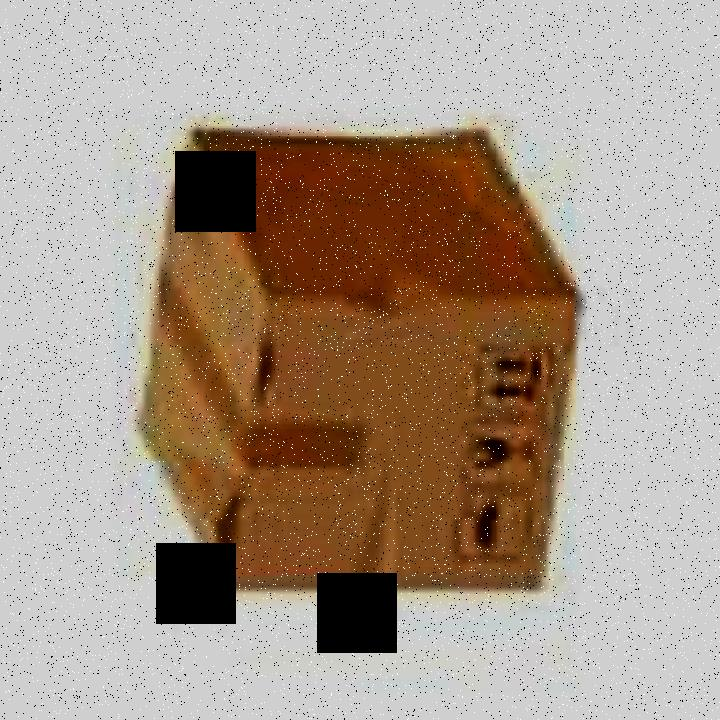box: (126, 104, 588, 604)
